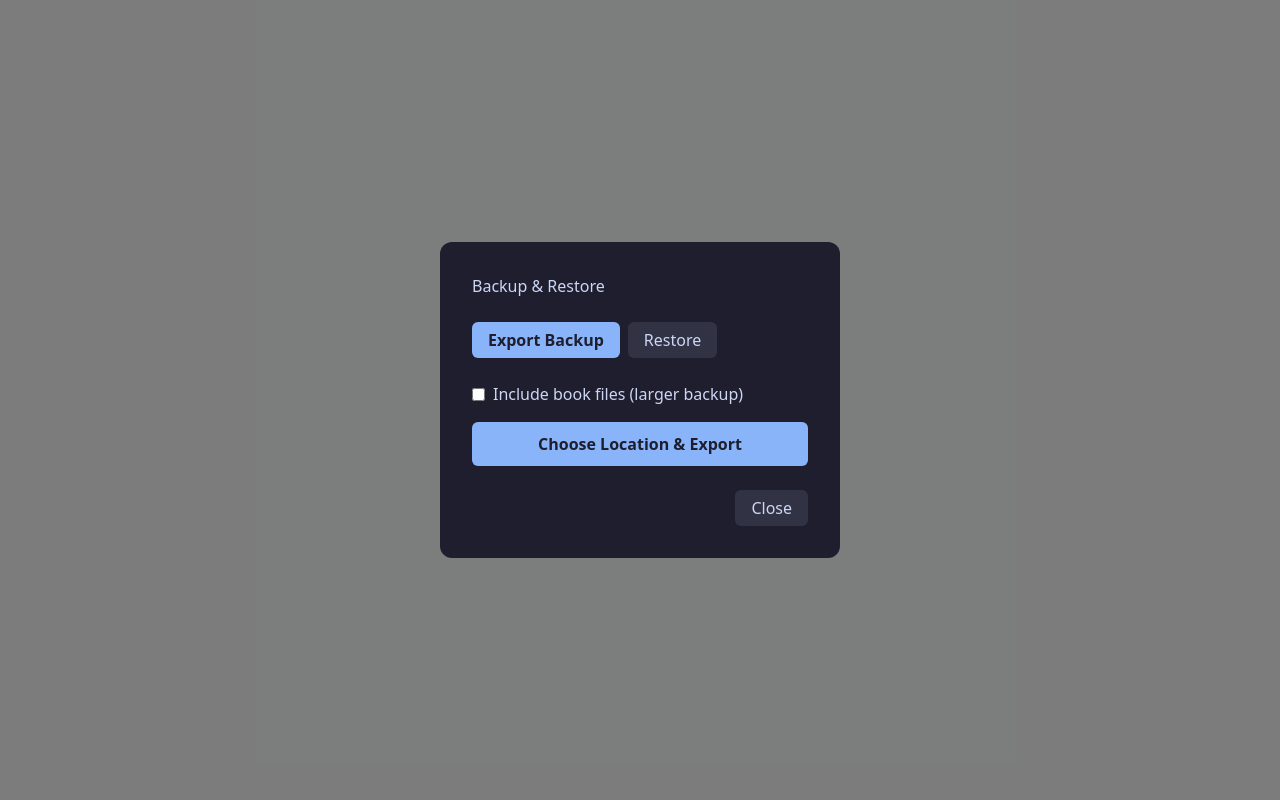
it: BackupRestoreDialog › shows success message after export
Click the button with test id "export-backup-btn".
click(640, 444)  # box [472,422,808,466]
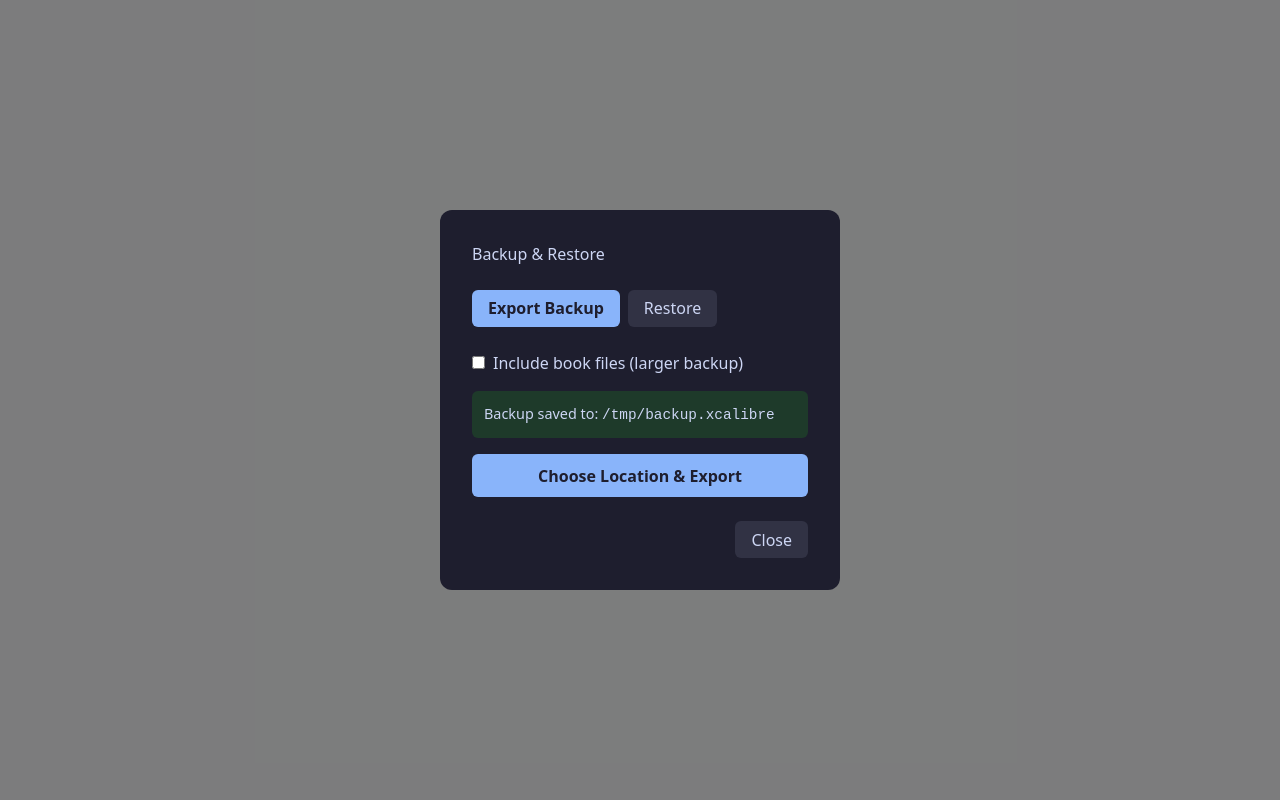
Result: the element with test id "backup-success" is shown at [472,391,808,438]
